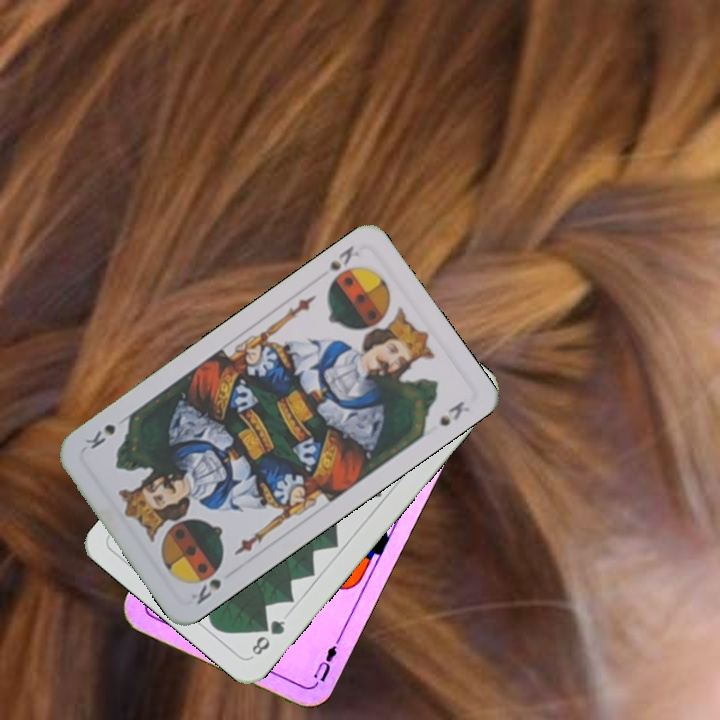EU: (309, 635, 343, 691)
G8: (247, 615, 288, 660)
SK: (324, 241, 364, 274), (187, 574, 224, 608)
